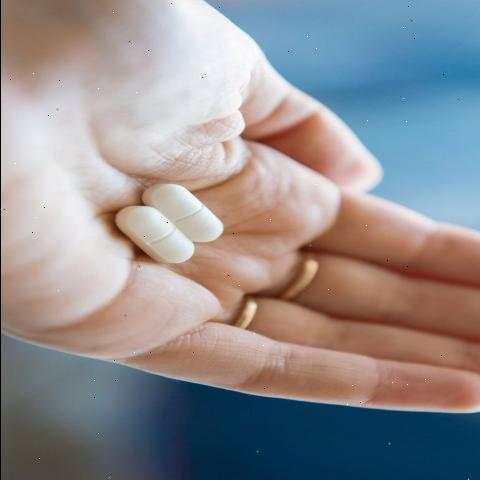Pill: (95, 205, 196, 265), (142, 176, 230, 244)
